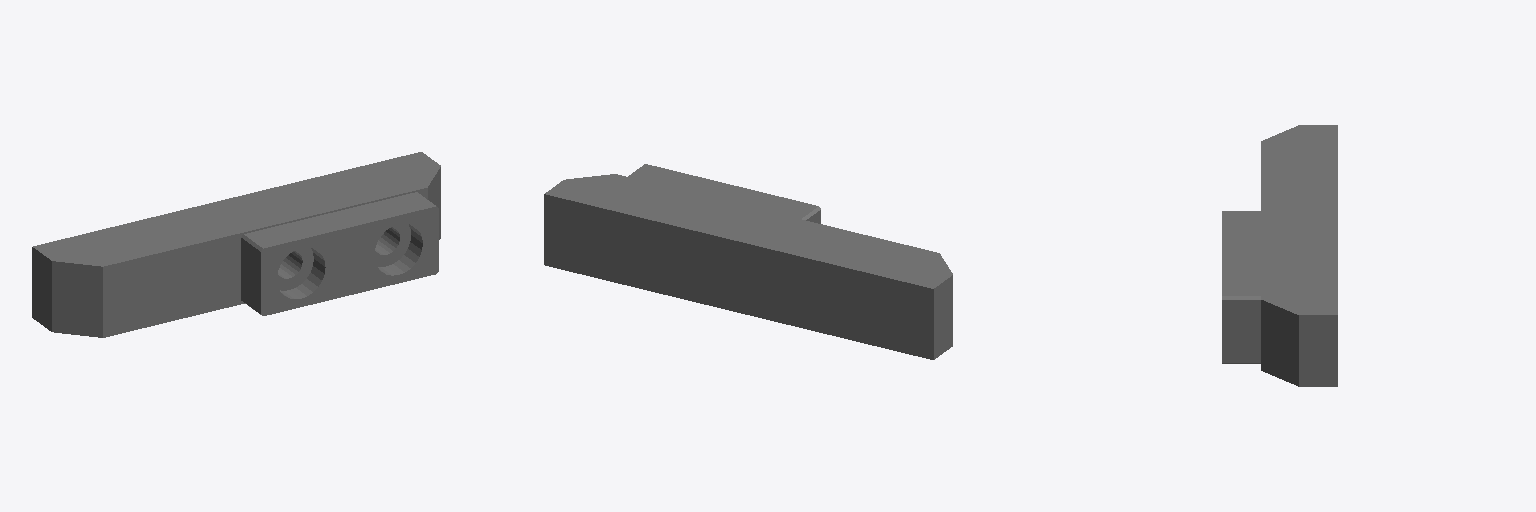
The model's file is wr_finger_right_CRG200_base_jaw_CRG200_base_jaw_CRG200_base_jaw.obj.
3 views of the same model, side by side, from view 1: azimuth 30°, elevation 25°; view 2: azimuth 150°, elevation 25°; view 3: azimuth 270°, elevation 25° (orthographic).
Bounding box in the file's own units: 0.048 × 0.0084 × 0.0124.